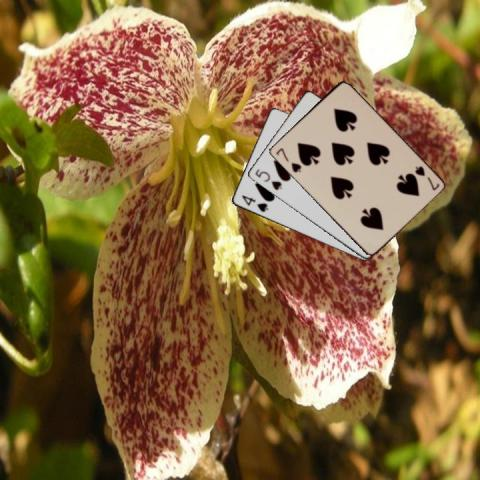4s: (239, 192, 270, 213)
5s: (252, 166, 284, 191)
7s: (272, 145, 302, 174), (411, 163, 441, 192)
